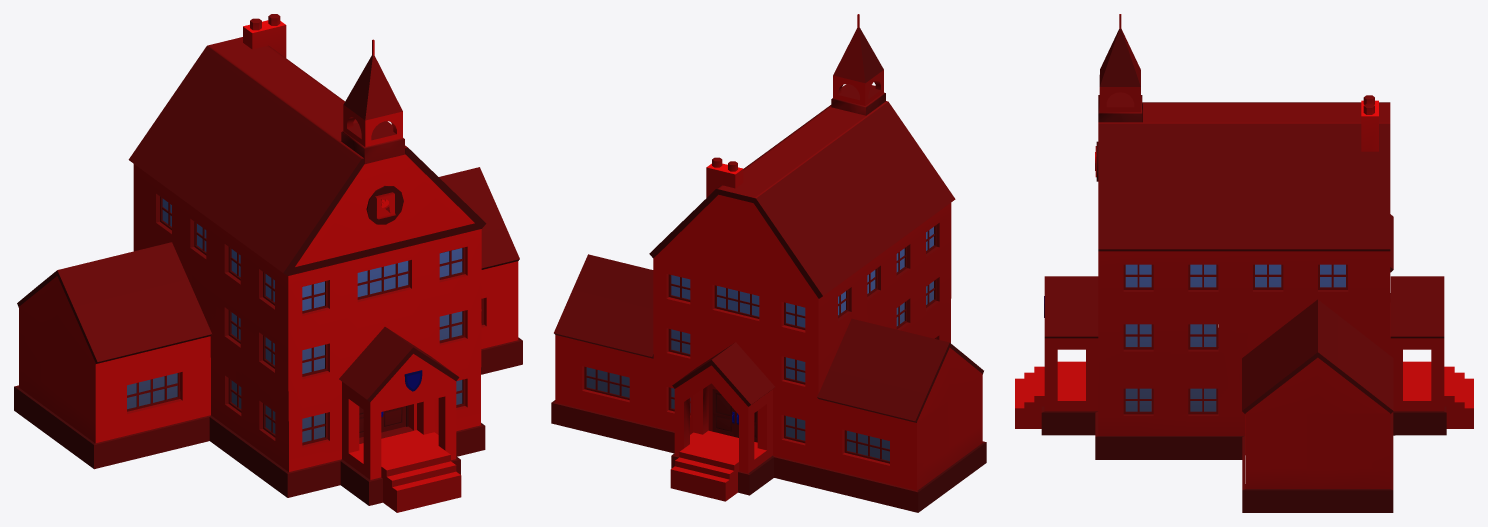
The model's file is buildings-business-school_v1.fbx.
3 renders of one model, left to right at view 1: azimuth 30°, elevation 25°; view 2: azimuth 150°, elevation 25°; view 3: azimuth 270°, elevation 25°, orthographic. The views are drawn at different scales.
Parts seen in each view (by area): view 1: School_base, School_windowRefl; view 2: School_base, School_windowRefl; view 3: School_base, School_windowRefl.
Boxes of the visible parts, x1,y1,x2,y2 form: School_base: [14, 14, 522, 512]; School_windowRefl: [127, 198, 462, 442]; School_base: [551, 14, 986, 512]; School_windowRefl: [586, 227, 933, 460]; School_base: [1015, 14, 1473, 512]; School_windowRefl: [1125, 264, 1345, 411].
Bounding box in the file's own units: 26.16 × 24.74 × 25.72.
